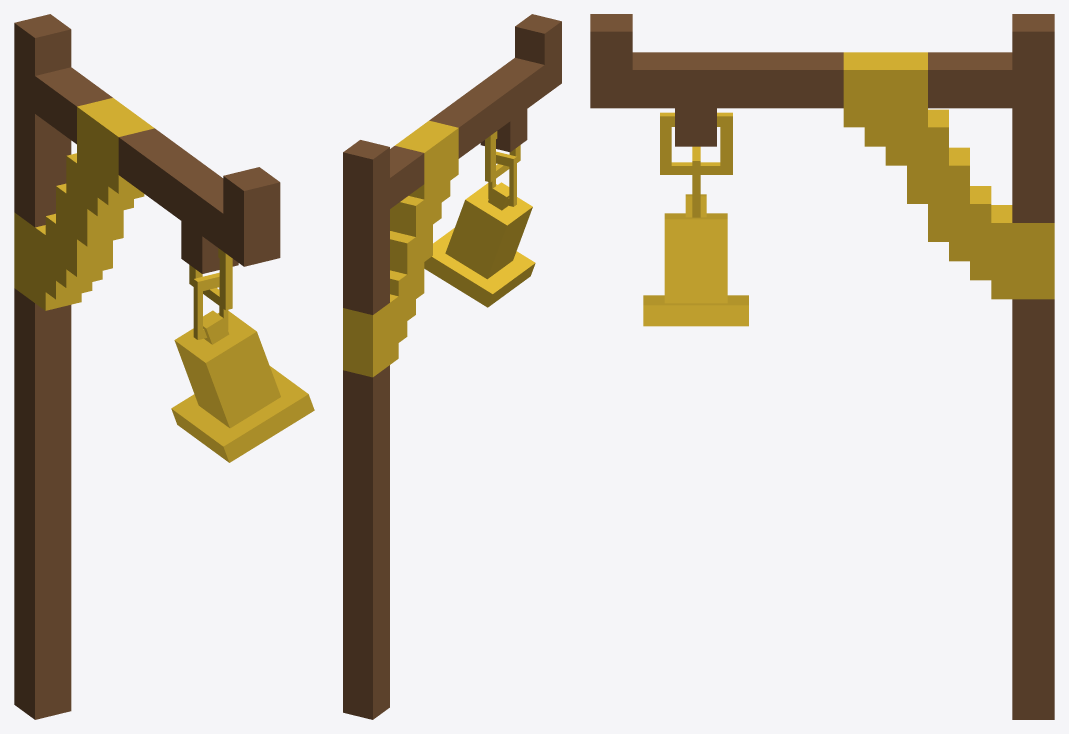
File: campana frame2 fbx.fbx
3 renders of one model, left to right at view 1: azimuth 30°, elevation 25°; view 2: azimuth 150°, elevation 25°; view 3: azimuth 270°, elevation 25°, orthographic. The views are drawn at different scales.
Parts seen in each view (by area): view 1: campana; view 2: campana; view 3: campana.
Part boxes in pixels (box(x1,y1,x2,y2)): campana: box(14, 14, 314, 719); campana: box(343, 14, 561, 719); campana: box(590, 14, 1054, 719).
Bounding box in the file's own units: 54.44 × 360 × 220.
